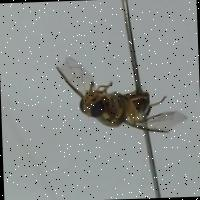Oriental-fruit-fly: (43, 46, 190, 151)
